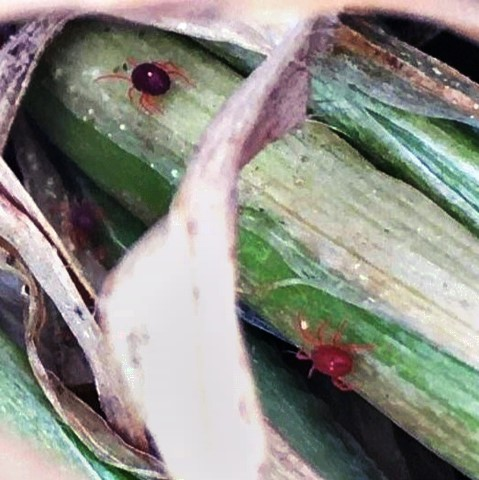Wheat Red Spider: (88, 45, 204, 129), (278, 312, 380, 397)
